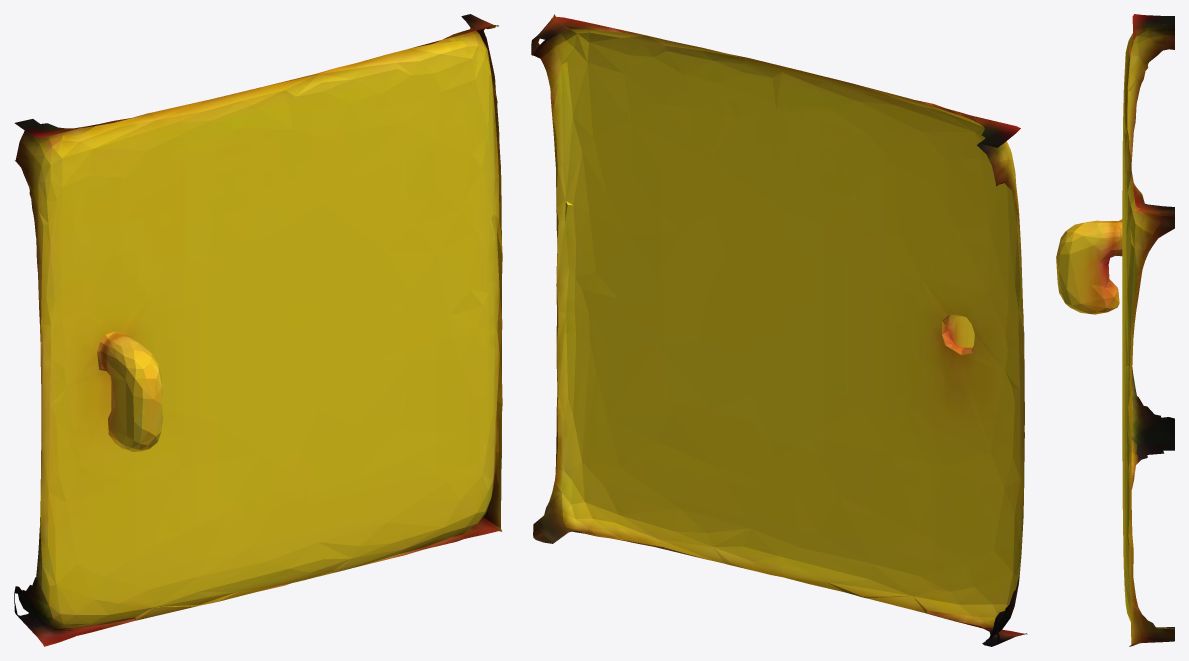
The model's file is door_top_right.glb.
The picture shows the model from 3 angles, left to right: view 1: azimuth 30°, elevation 25°; view 2: azimuth 150°, elevation 25°; view 3: azimuth 270°, elevation 25°; orthographic projection. The views are drawn at different scales.
Parts seen in each view (by area): view 1: source_surface_0; view 2: source_surface_0; view 3: source_surface_0.
Part boxes in pixels (x1,y1,x2,y2): source_surface_0: (14,14,502,646); source_surface_0: (531,14,1027,646); source_surface_0: (1056,14,1174,646).
Size of the model in its own units: 0.0773 by 0.0807 by 0.0198.
Materials: 1 (1 with a texture image).
